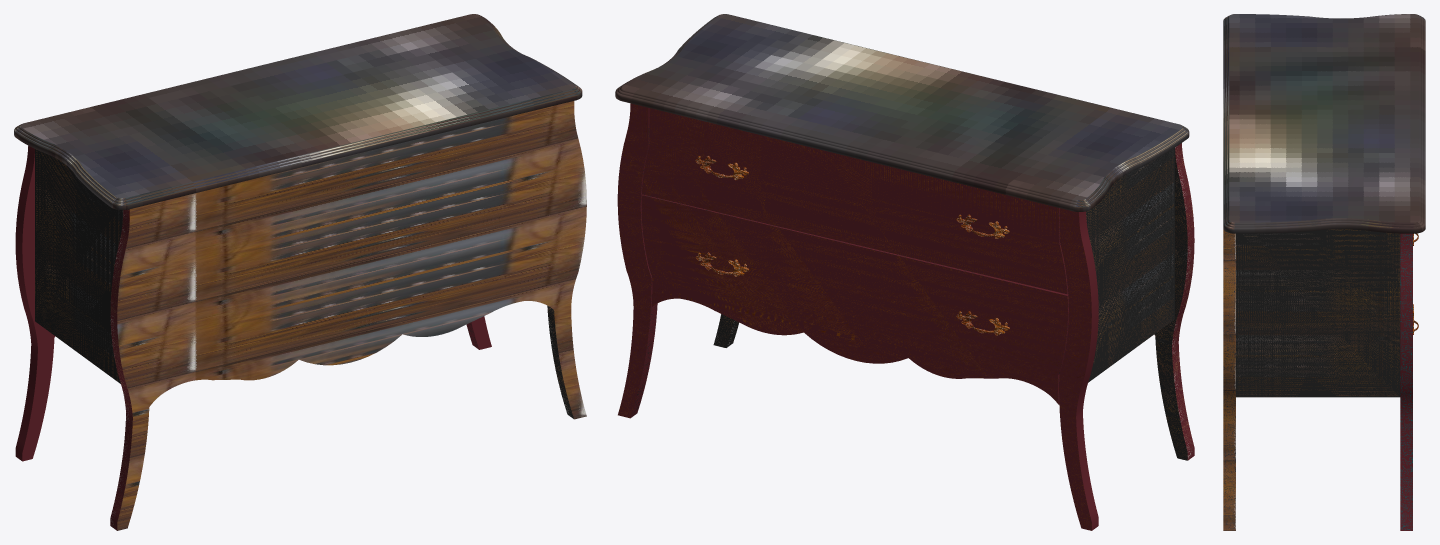
3 views of the same model, side by side, from view 1: azimuth 30°, elevation 25°; view 2: azimuth 150°, elevation 25°; view 3: azimuth 270°, elevation 25° (orthographic). The views are drawn at different scales.
Parts seen in each view (by area): view 1: mesh12_mesh12-geometry, mesh21_mesh21-geometry, mesh16_mesh16-geometry, mesh1_mesh1-geometry; view 2: mesh1_mesh1-geometry, mesh21_mesh21-geometry, mesh16_mesh16-geometry, mesh12_mesh12-geometry, mesh22_mesh22-geometry; view 3: mesh21_mesh21-geometry, mesh16_mesh16-geometry, mesh12_mesh12-geometry, mesh1_mesh1-geometry.
Boxes of the visible parts, <box> form: mesh12_mesh12-geometry: <box>110,101,586,530</box>; mesh21_mesh21-geometry: <box>14,14,582,210</box>; mesh16_mesh16-geometry: <box>35,149,123,383</box>; mesh1_mesh1-geometry: <box>15,146,491,461</box>; mesh1_mesh1-geometry: <box>617,103,1098,530</box>; mesh21_mesh21-geometry: <box>615,14,1189,211</box>; mesh16_mesh16-geometry: <box>1086,148,1174,382</box>; mesh12_mesh12-geometry: <box>713,143,1194,460</box>; mesh22_mesh22-geometry: <box>695,155,1009,335</box>; mesh21_mesh21-geometry: <box>1223,14,1425,233</box>; mesh16_mesh16-geometry: <box>1236,229,1400,397</box>; mesh12_mesh12-geometry: <box>1223,229,1235,530</box>; mesh1_mesh1-geometry: <box>1400,233,1412,530</box>.
Bounding box in the file's own units: 0.7897 × 0.526 × 0.3156.
